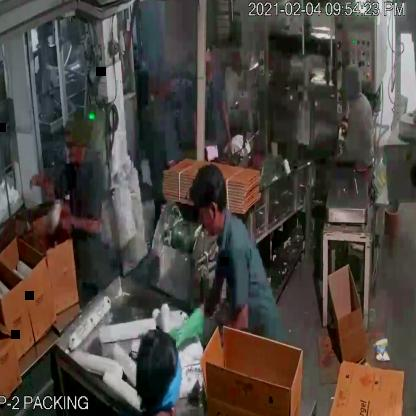glove: (166, 304, 214, 351)
no_glove: (53, 194, 114, 254), (25, 169, 65, 217), (218, 101, 235, 161)
